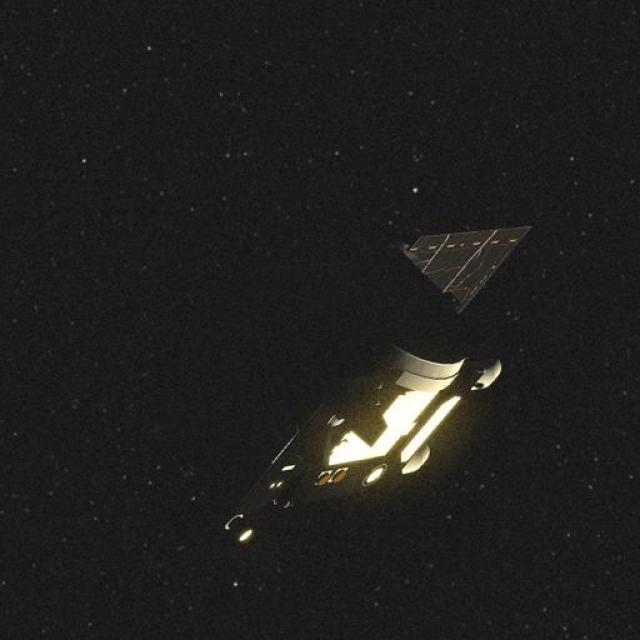proba_3_csc: (178, 208, 541, 555)
